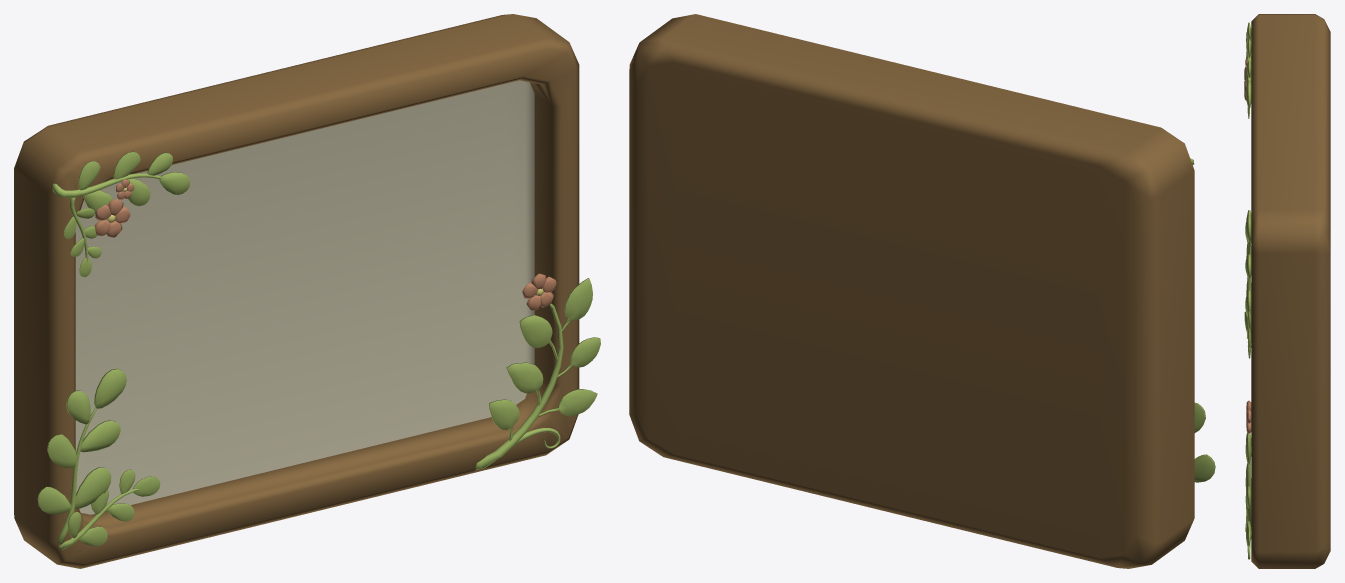
File: Setting_borad.fbx
3 renders of one model, left to right at view 1: azimuth 30°, elevation 25°; view 2: azimuth 150°, elevation 25°; view 3: azimuth 270°, elevation 25°, orthographic. The views are drawn at different scales.
Parts seen in each view (by area): view 1: UI_borad; view 2: UI_borad; view 3: UI_borad.
Boxes of the visible parts, x1,y1,x2,y2 form: UI_borad: (14,14,600,568); UI_borad: (629,14,1215,568); UI_borad: (1244,14,1330,568).
Size of the model in its own units: 63.4 by 45 by 9.84.
